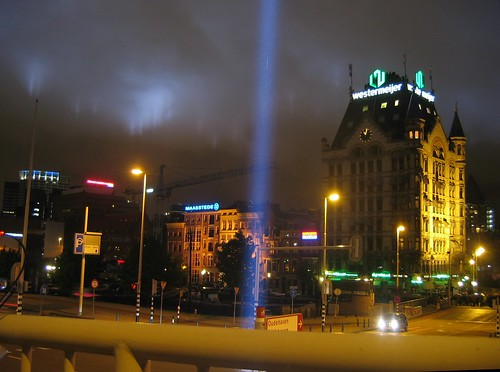building: (322, 66, 477, 273), (163, 195, 292, 283)
light pole: (319, 189, 343, 334), (126, 165, 145, 338), (387, 217, 412, 310)
sky: (1, 1, 319, 193)
